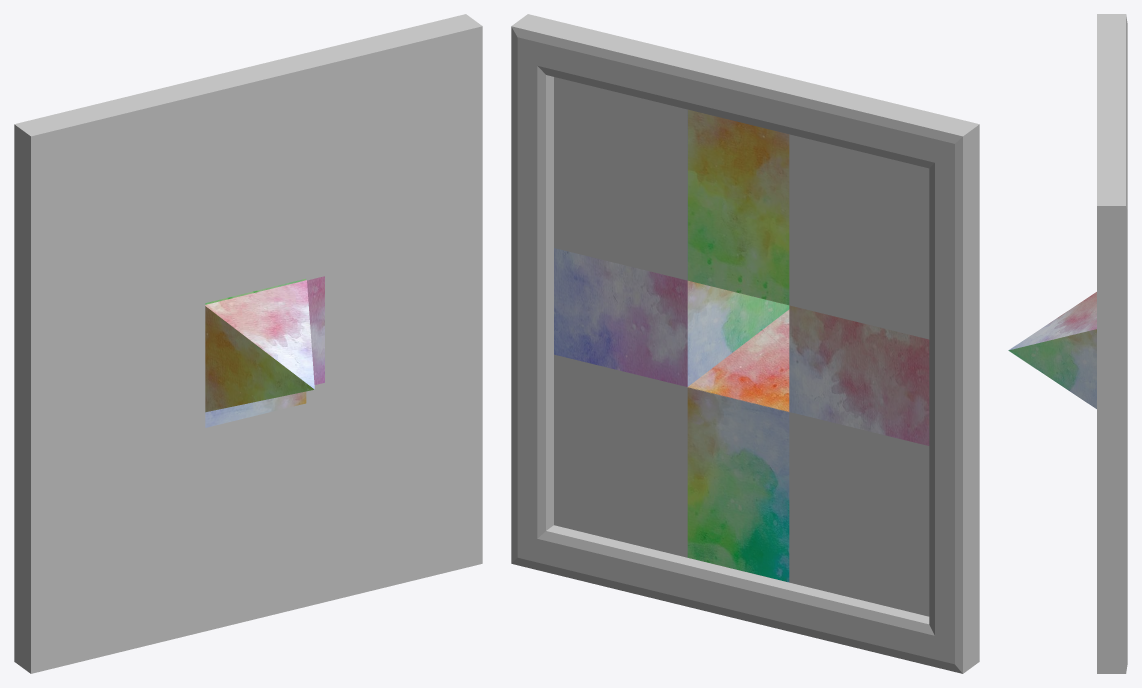
Rendered from Exit paint.fbx.
The picture shows the model from 3 angles, left to right: view 1: azimuth 30°, elevation 25°; view 2: azimuth 150°, elevation 25°; view 3: azimuth 270°, elevation 25°; orthographic projection. The views are drawn at different scales.
Parts seen in each view (by area): view 1: Cube.054; view 2: Cube.054; view 3: Cube.054.
Boxes of the visible parts, box(x1,y1,x2,y2) form: Cube.054: box(14, 14, 482, 673); Cube.054: box(511, 14, 979, 673); Cube.054: box(1008, 14, 1127, 673).
Size of the model in its own units: 264 by 300 by 69.4.
2 materials, 1 textured.
